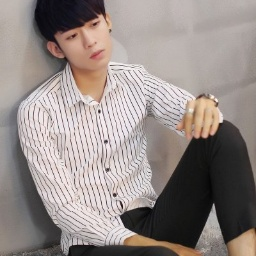face: (33, 1, 115, 70)
